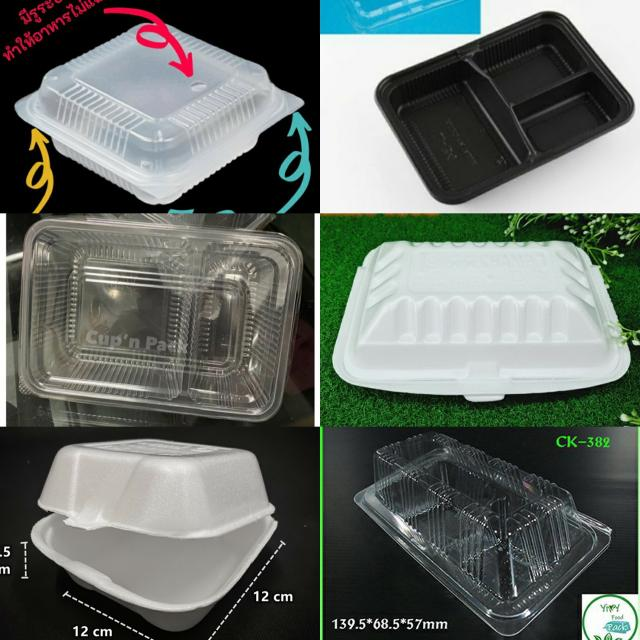Single-Use-Plastic: (20, 218, 301, 421), (354, 432, 610, 635), (15, 25, 304, 203), (375, 12, 634, 204), (333, 241, 630, 401), (31, 439, 276, 631)
